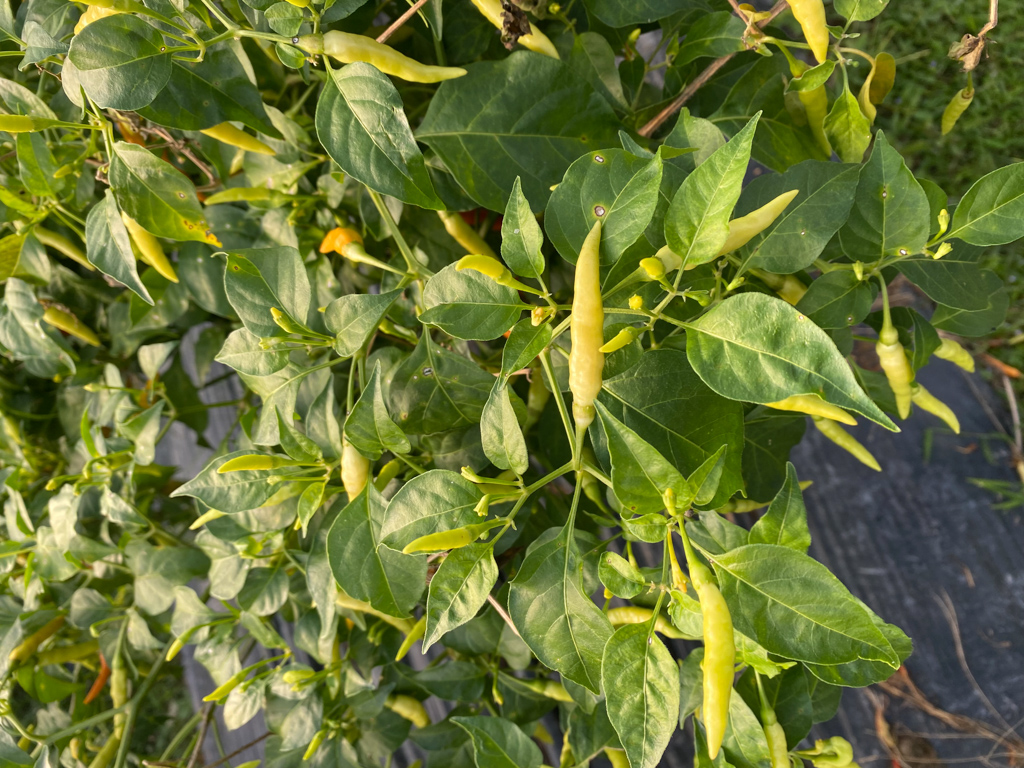frog-eye leafspot: (179, 217, 218, 240), (876, 183, 899, 206), (589, 199, 611, 218), (446, 370, 466, 390), (624, 498, 640, 516), (894, 244, 913, 259), (588, 152, 609, 165), (419, 363, 435, 380), (577, 129, 592, 147), (229, 260, 244, 276), (171, 190, 190, 200), (398, 409, 411, 423), (157, 44, 166, 56)
